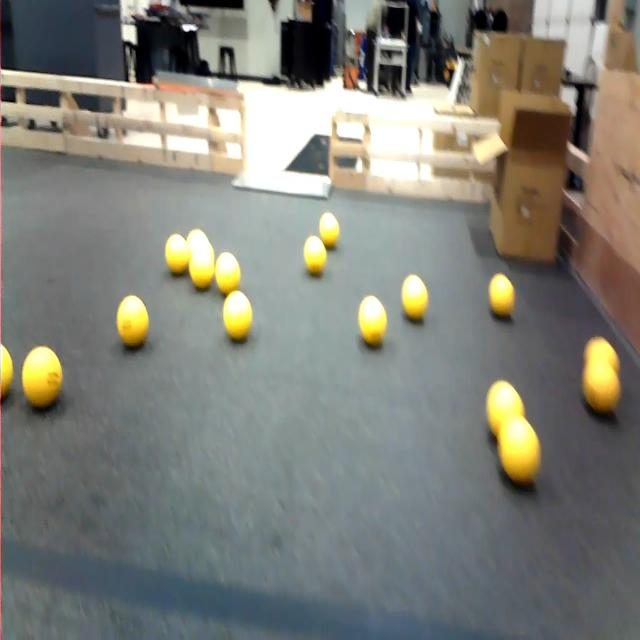fuel: (498, 416, 540, 484), (22, 346, 62, 408), (486, 381, 524, 439), (583, 359, 621, 414), (117, 296, 149, 348), (223, 291, 252, 341), (358, 296, 386, 346), (584, 337, 619, 374), (402, 275, 428, 320), (189, 244, 214, 290), (489, 274, 514, 318), (215, 253, 240, 295), (165, 234, 190, 274), (304, 236, 326, 275), (0, 345, 13, 399), (319, 213, 339, 247), (187, 229, 209, 251)
